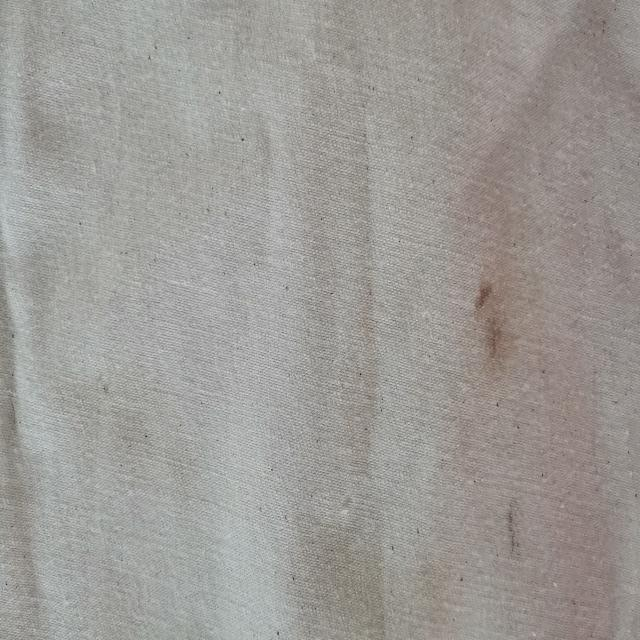taaaches: (466, 272, 512, 378), (502, 472, 526, 570)
